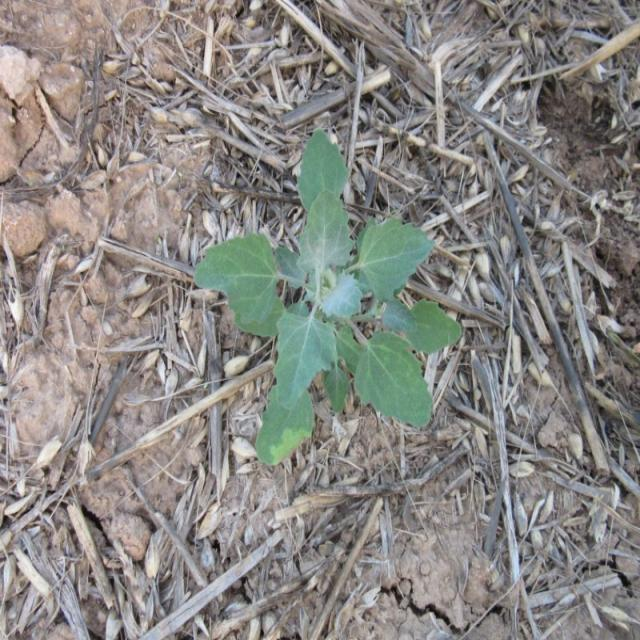ca: (192, 134, 461, 464)
